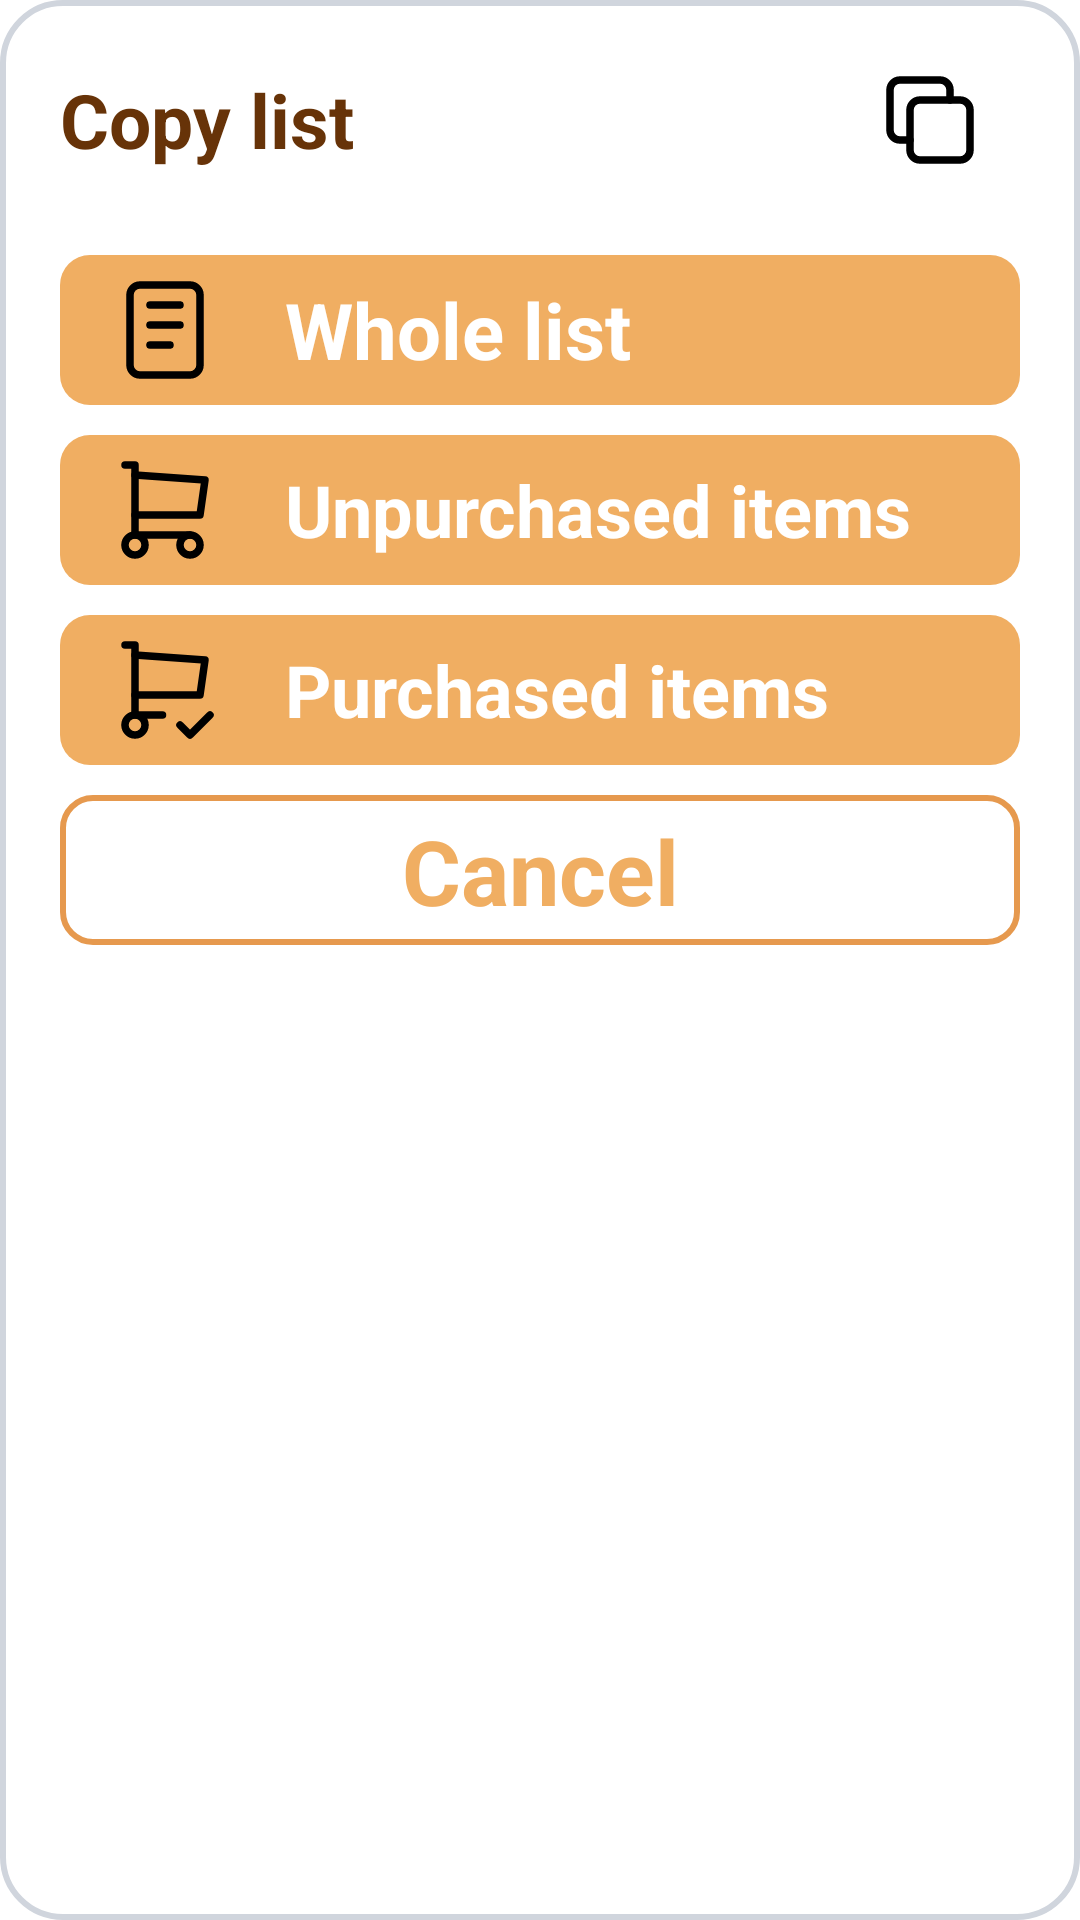

Screen size 1080x1920. Icon name, then its box in pixels as (x1, y1, x2, y2):
cart: (121, 461, 209, 559)
cart checked: (121, 641, 214, 739)
